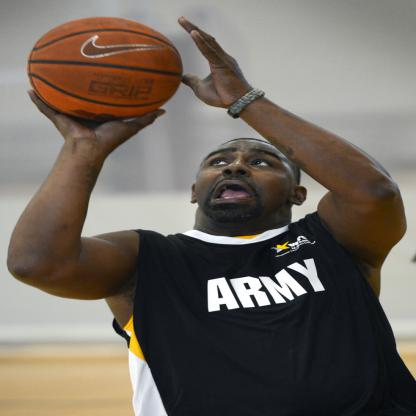Ball: (30, 17, 183, 125)
